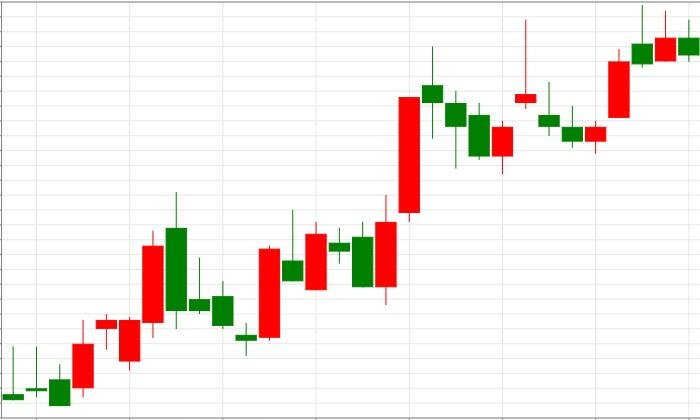morning_star_rise: (166, 192, 280, 357)
